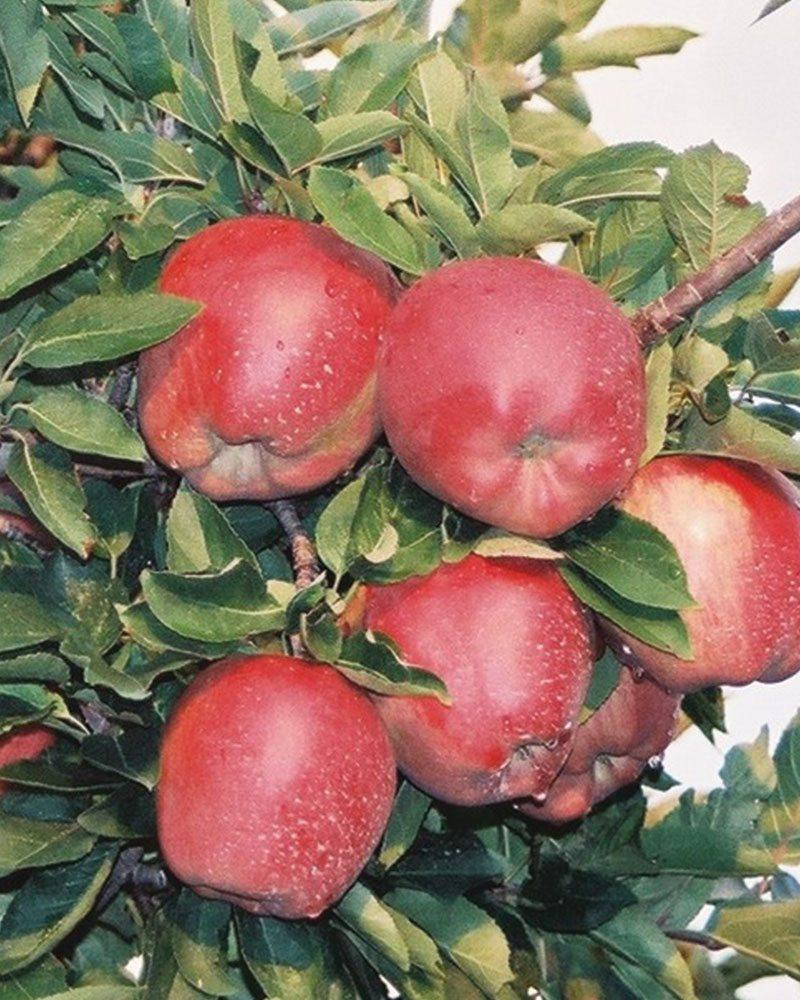apple: (378, 237, 654, 525), (142, 214, 397, 493), (155, 649, 397, 917), (351, 553, 591, 809), (579, 450, 800, 693)
